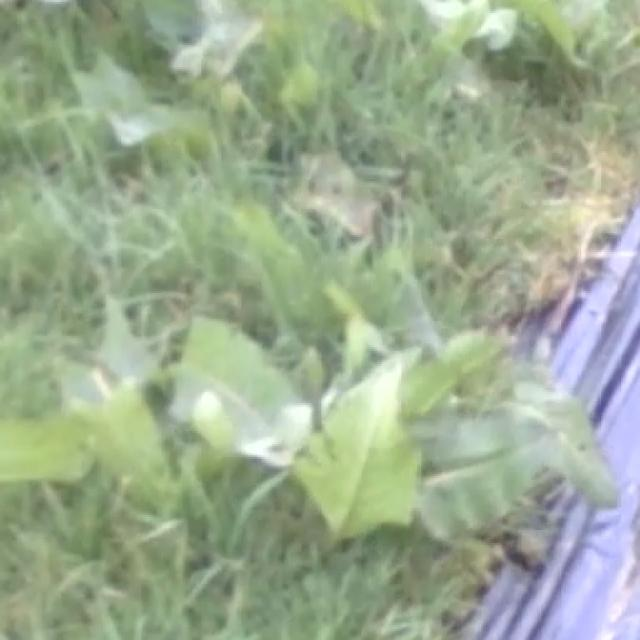organic waste: (30, 311, 585, 565), (83, 0, 276, 171), (412, 0, 618, 95)
